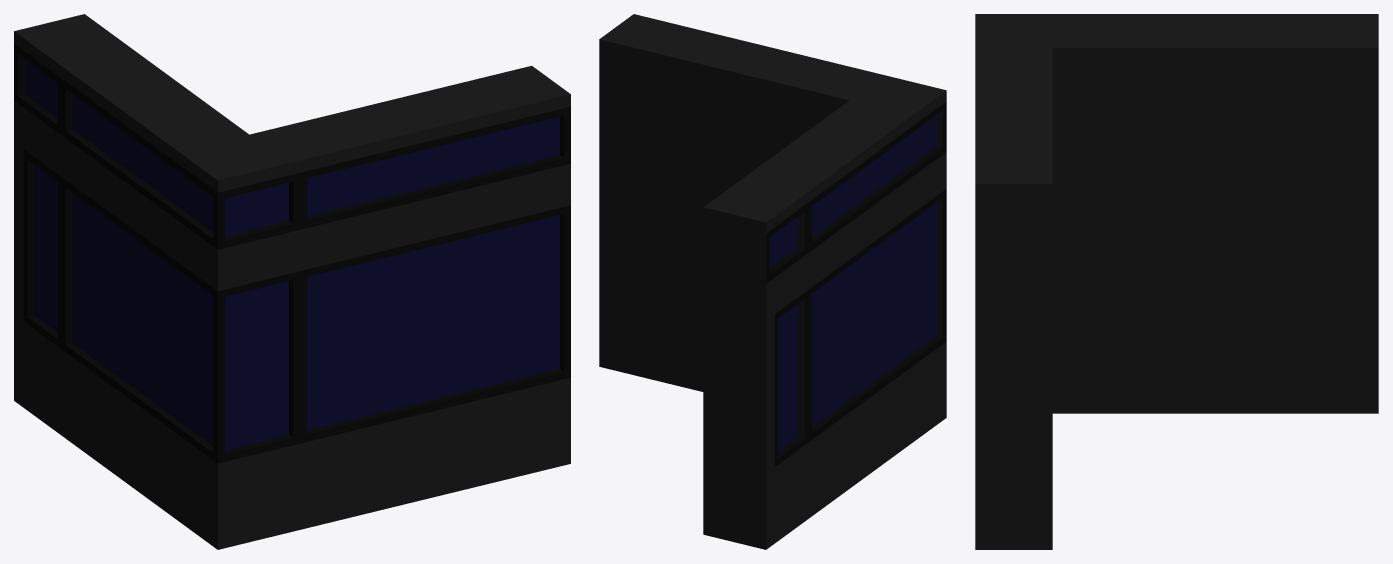
Rendered from medical_center22.FBX.
3 views of the same model, side by side, from view 1: azimuth 30°, elevation 25°; view 2: azimuth 150°, elevation 25°; view 3: azimuth 270°, elevation 25° (orthographic). The views are drawn at different scales.
Visible parts, largest first — view 1: medical_center22; view 2: medical_center22; view 3: medical_center22.
Boxes of the visible parts, x1,y1,x2,y2 form: medical_center22: [14, 14, 570, 549]; medical_center22: [599, 14, 946, 549]; medical_center22: [975, 14, 1378, 549].
Size of the model in its own units: 3000 by 3000 by 3000.
